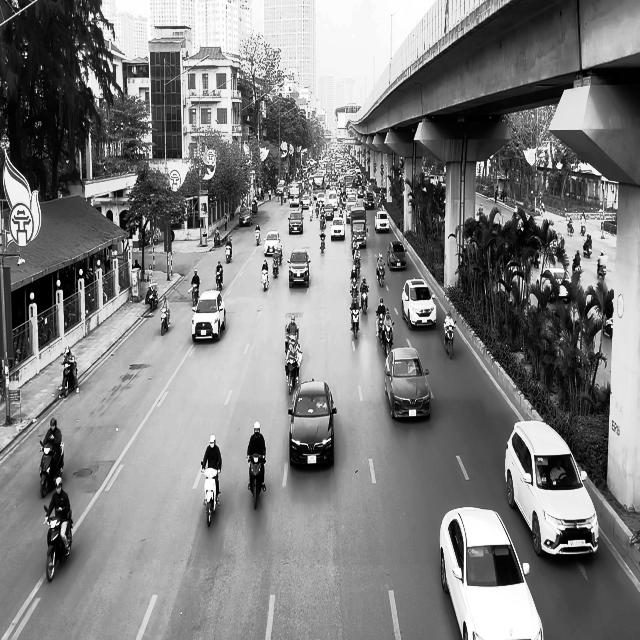car: (439, 506, 544, 639), (504, 420, 600, 558), (288, 379, 336, 467), (384, 346, 431, 420), (401, 278, 437, 330), (191, 289, 226, 342), (540, 267, 572, 302), (287, 248, 310, 288), (387, 240, 407, 270), (264, 230, 280, 256), (288, 210, 303, 234), (374, 210, 390, 232), (330, 217, 345, 240), (239, 207, 253, 226)
motorbike: (44, 504, 72, 582), (39, 439, 64, 498), (200, 464, 220, 526), (247, 452, 266, 510), (58, 361, 79, 398), (285, 350, 302, 394), (443, 320, 456, 359), (350, 306, 360, 339), (160, 307, 170, 335), (148, 285, 158, 311), (597, 258, 607, 279), (190, 284, 199, 307), (376, 265, 385, 287), (261, 267, 269, 291), (215, 271, 223, 291), (225, 242, 232, 263), (319, 233, 325, 253), (255, 229, 260, 245)
